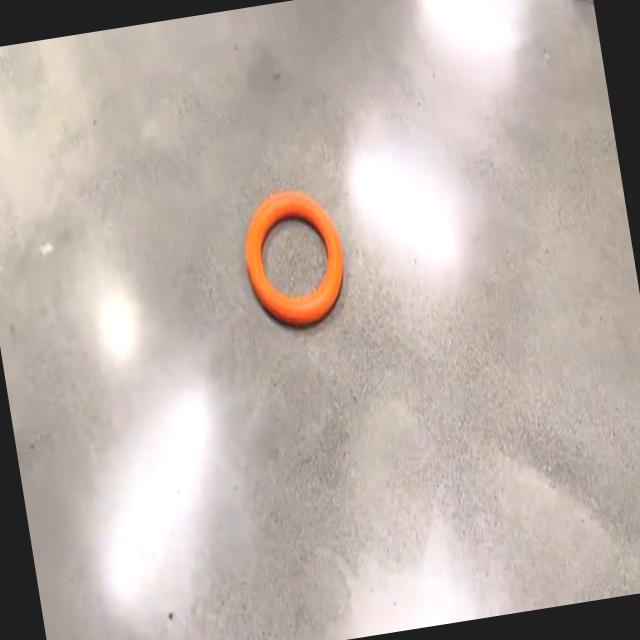note: (245, 191, 344, 323)
